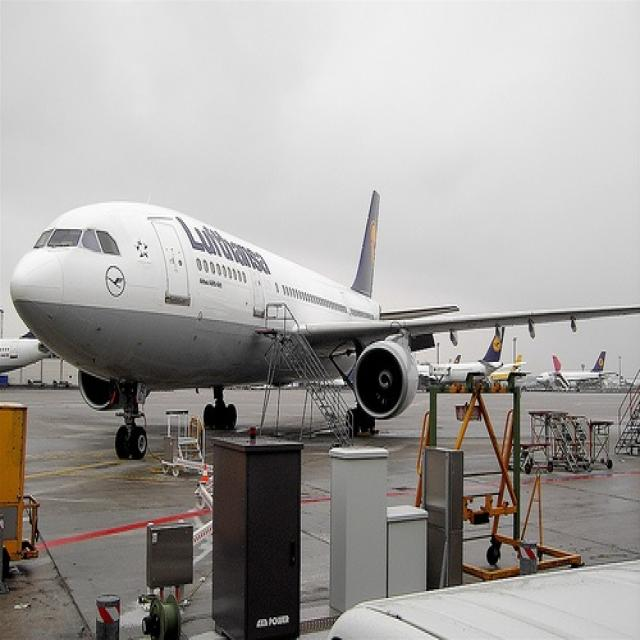aeroplane: (12, 186, 639, 459), (416, 328, 526, 389), (539, 349, 617, 394)
